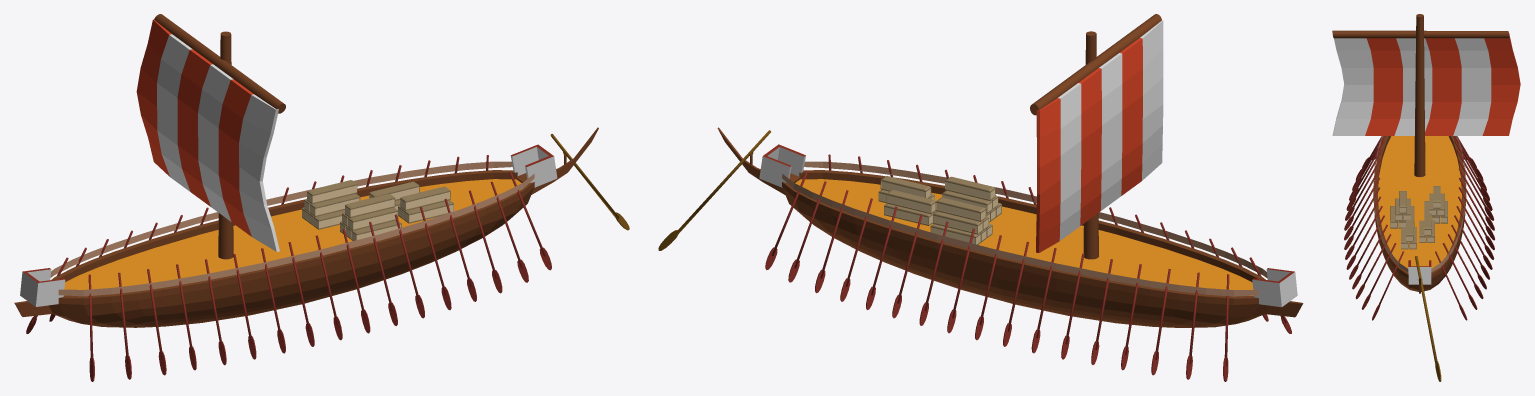
The model's file is grand_bateau.fbx.
The picture shows the model from 3 angles, left to right: view 1: azimuth 30°, elevation 25°; view 2: azimuth 150°, elevation 25°; view 3: azimuth 270°, elevation 25°; orthographic projection. The views are drawn at different scales.
Parts seen in each view (by area): view 1: Grand bateau, Rames, Caisse.006, Caisse.002, Caisse.015, Caisse.008, Caisse.016, Caisse.004, Caisse.014; view 2: Grand bateau, Rames, Caisse.002, Caisse.006, Caisse.014, Caisse.015, Caisse.005, Caisse.012; view 3: Grand bateau, Rames, Caisse.014, Caisse.006, Caisse.002, Caisse.015.
Part boxes in pixels (<box>): Grand bateau: <box>14,14,598,327</box>; Rames: <box>26,134,629,381</box>; Caisse.006: <box>345,194,395,218</box>; Caisse.002: <box>307,180,357,204</box>; Caisse.015: <box>400,186,450,210</box>; Caisse.008: <box>348,207,398,230</box>; Caisse.016: <box>403,200,453,223</box>; Caisse.004: <box>310,194,360,216</box>; Caisse.014: <box>369,181,419,200</box>; Grand bateau: <box>717,14,1303,327</box>; Rames: <box>658,130,1291,381</box>; Caisse.002: <box>935,197,986,221</box>; Caisse.006: <box>945,176,995,200</box>; Caisse.014: <box>886,190,935,214</box>; Caisse.015: <box>880,176,931,198</box>; Caisse.005: <box>933,211,983,234</box>; Caisse.012: <box>884,203,933,225</box>; Grand bateau: <box>1332,14,1520,293</box>; Rames: <box>1344,136,1494,381</box>; Caisse.014: <box>1424,213,1431,235</box>; Caisse.006: <box>1399,191,1406,213</box>; Caisse.002: <box>1433,186,1440,208</box>; Caisse.015: <box>1406,219,1413,241</box>.
Size of the model in its own units: 1009 by 2790 by 1305.
